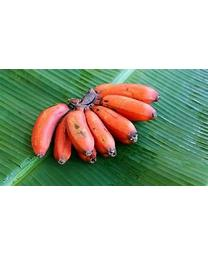banana: (30, 82, 158, 165)
